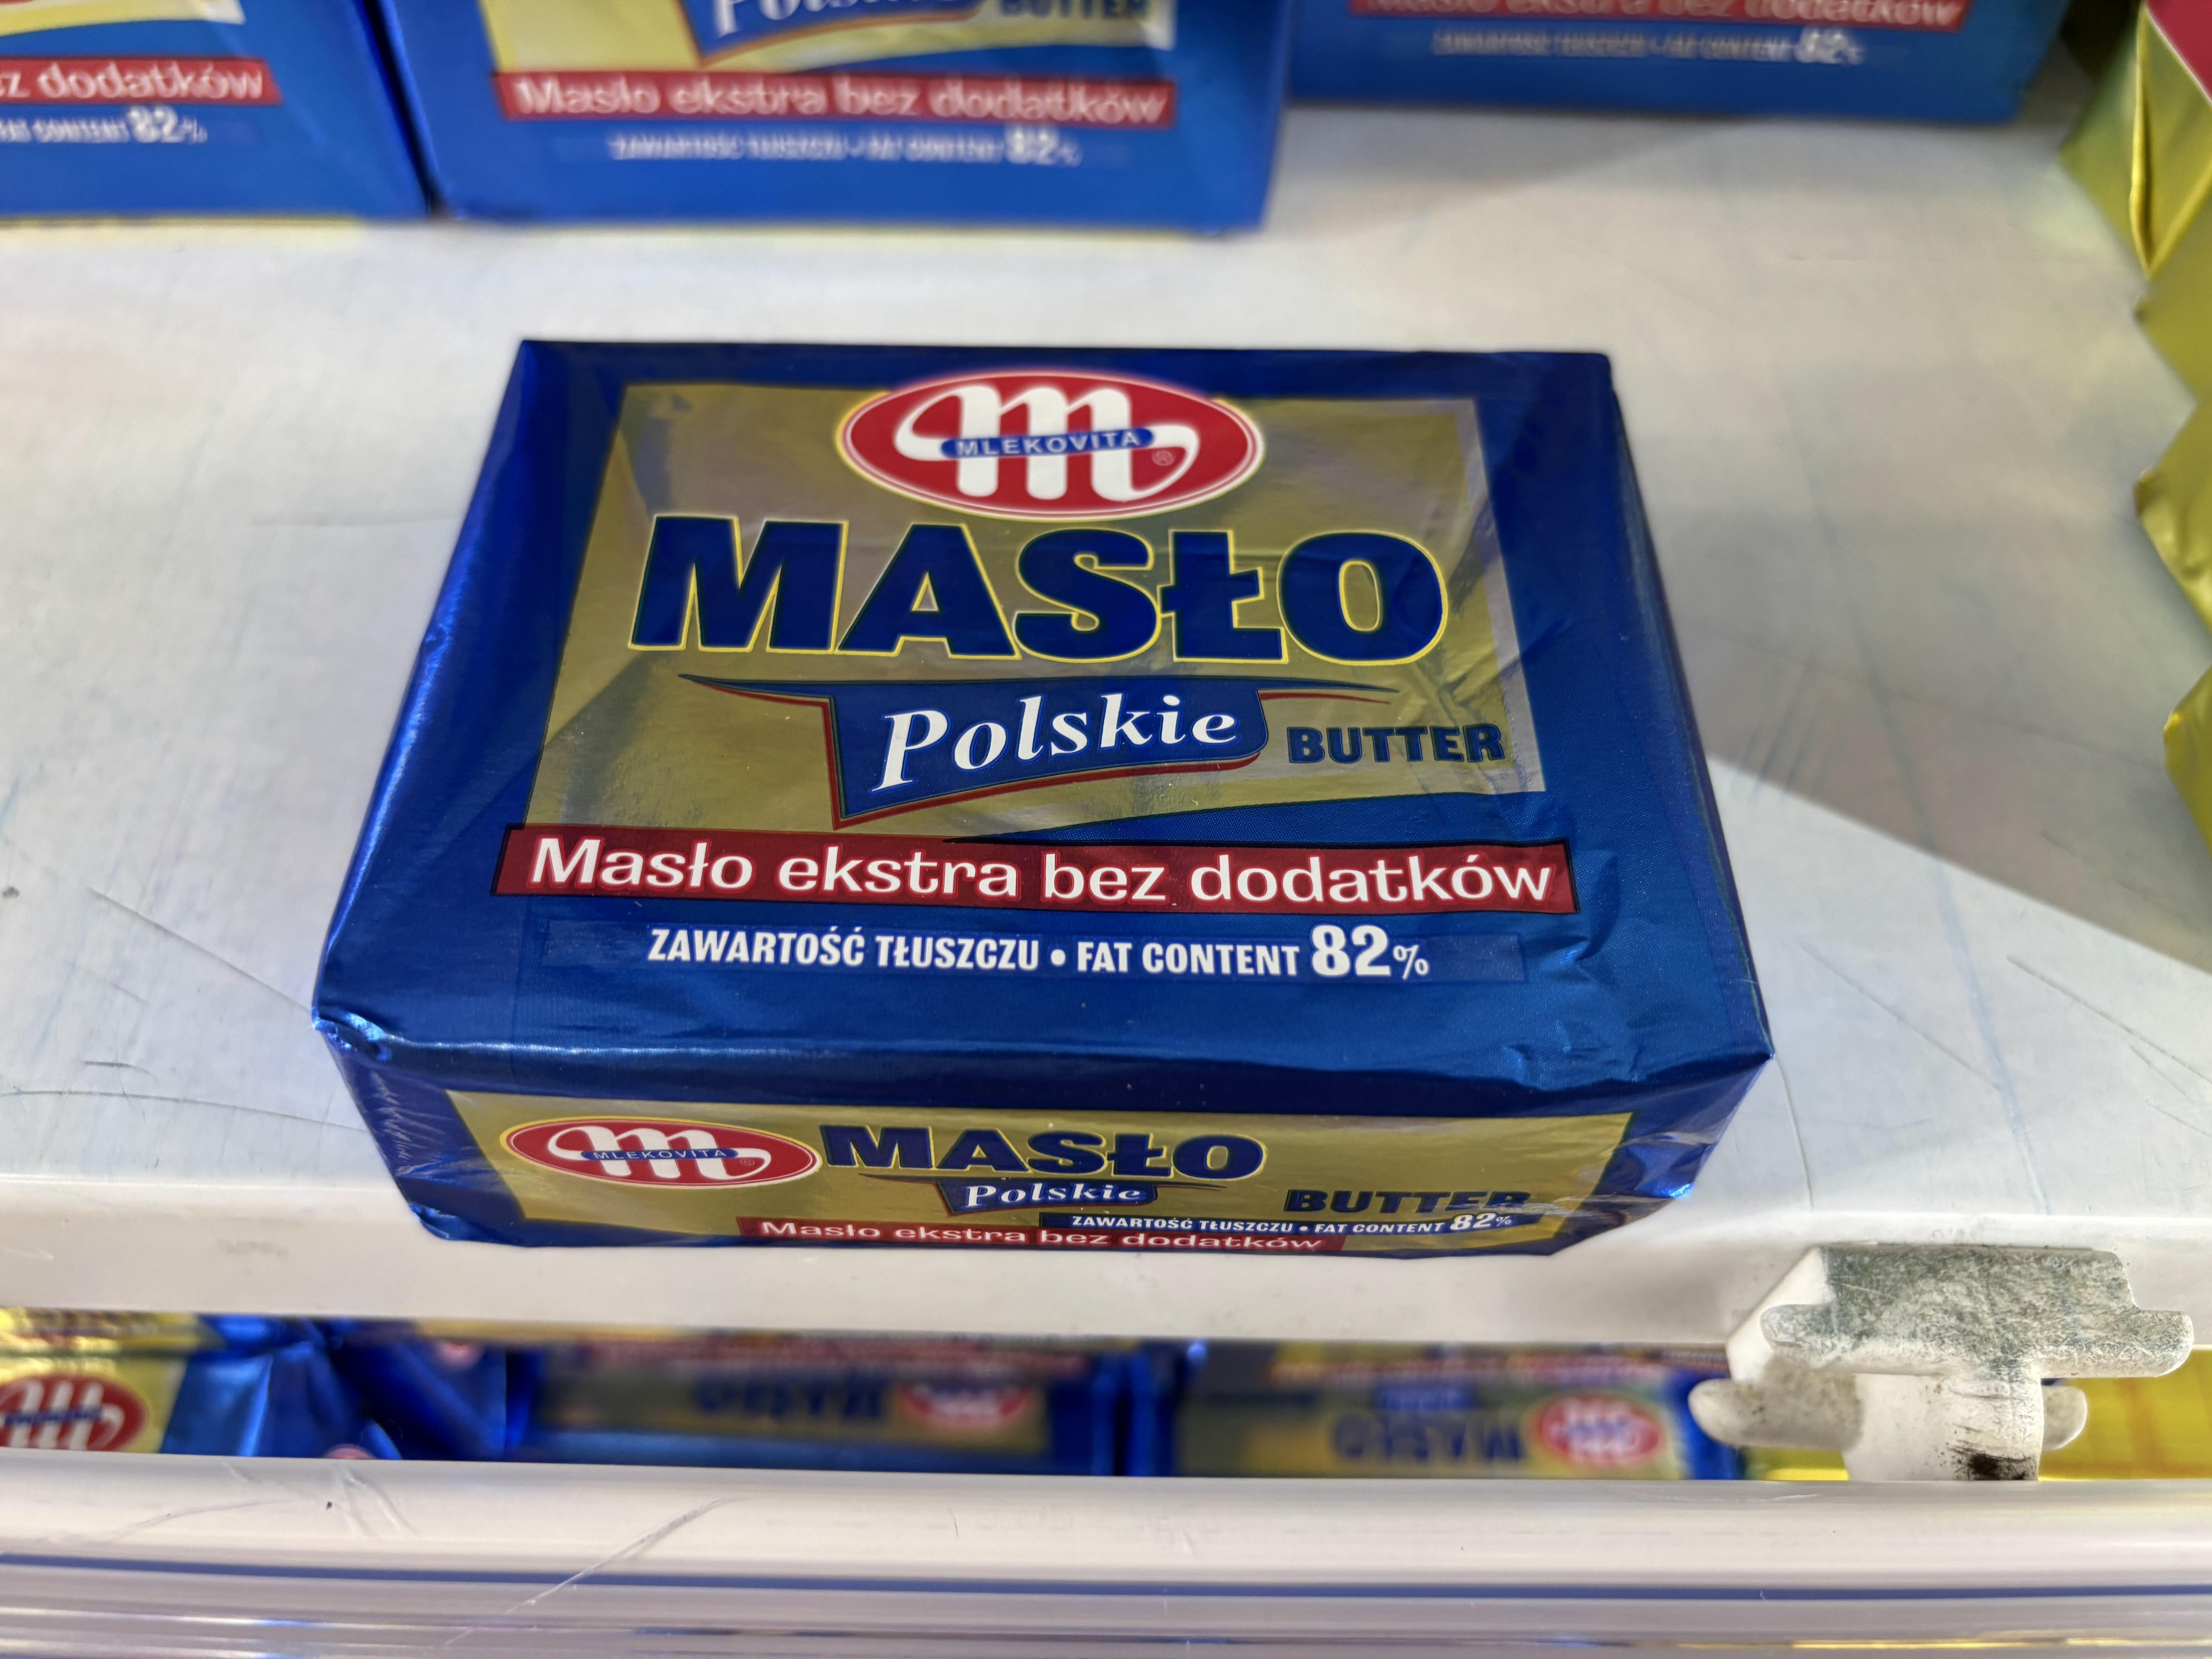Butter: (411, 312, 1740, 1239)
